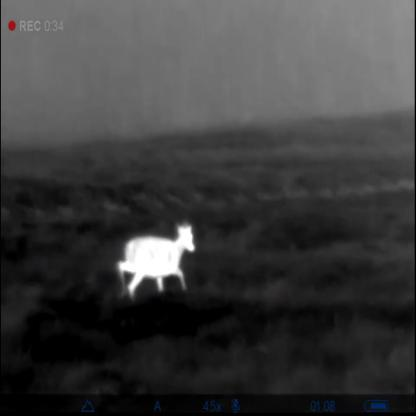rehkitze: (112, 225, 196, 303)
